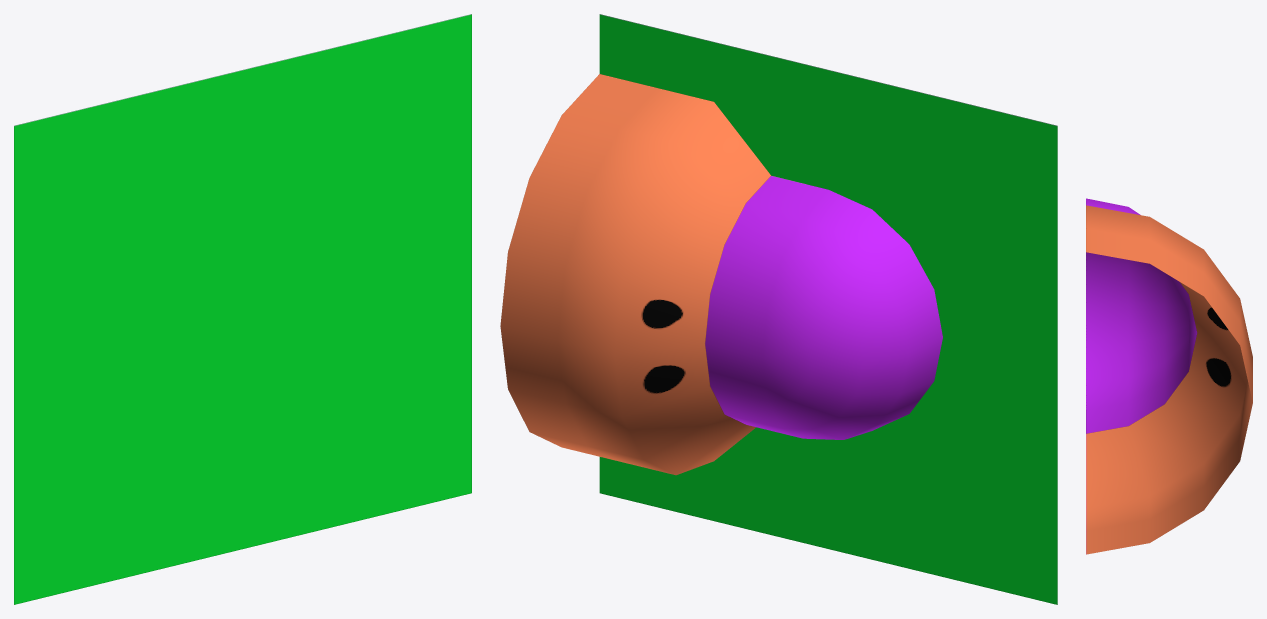
The model's file is 1x1_Sngl.fbx.
3 views of the same model, side by side, from view 1: azimuth 30°, elevation 25°; view 2: azimuth 150°, elevation 25°; view 3: azimuth 270°, elevation 25° (orthographic). The views are drawn at different scales.
Parts seen in each view (by area): view 1: Panel_1x1_Sngl_End; view 2: Panel_1x1_Sngl_End; view 3: Panel_1x1_Sngl_End.
Part boxes in pixels (x1,y1,x2,y2): Panel_1x1_Sngl_End: [14, 14, 471, 604]; Panel_1x1_Sngl_End: [500, 14, 1057, 604]; Panel_1x1_Sngl_End: [1086, 198, 1252, 554].
Bounding box in the file's own units: 100 × 100 × 37.5.
